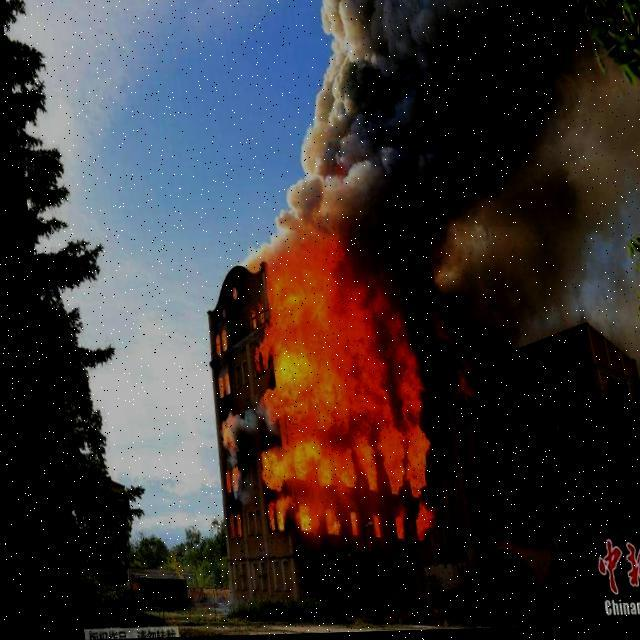Fire: (224, 244, 426, 546)
